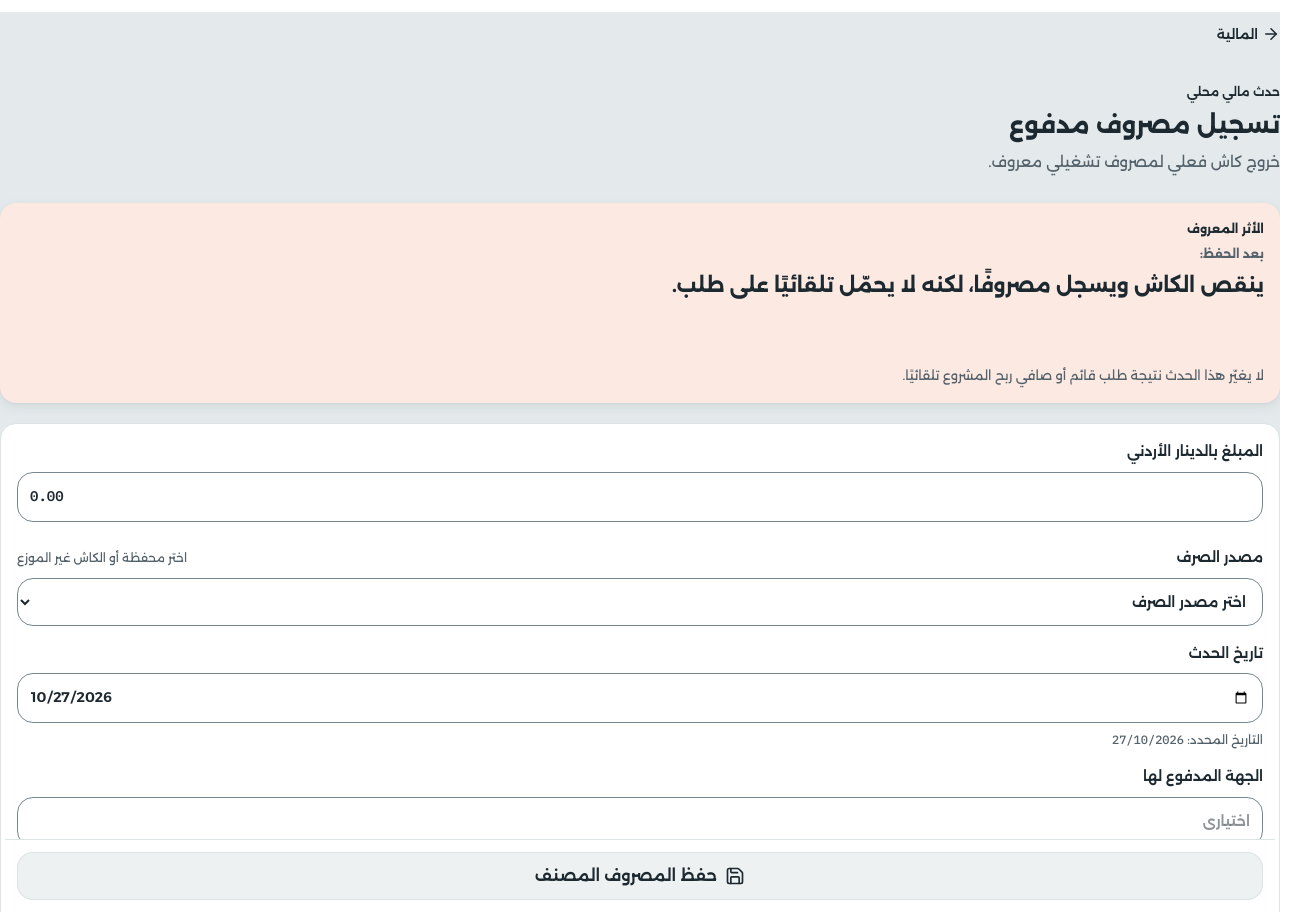
Scenario: FinancialEventEditor guided journey (المجموعة ١) › derives the effect preview from the committed intent — honest negative lines
The image size is (1292, 912).
Type "25" into the field labelled "المبلغ بالدينار الأردني".
click(640, 497); type("25")  # box [17,472,1263,522]
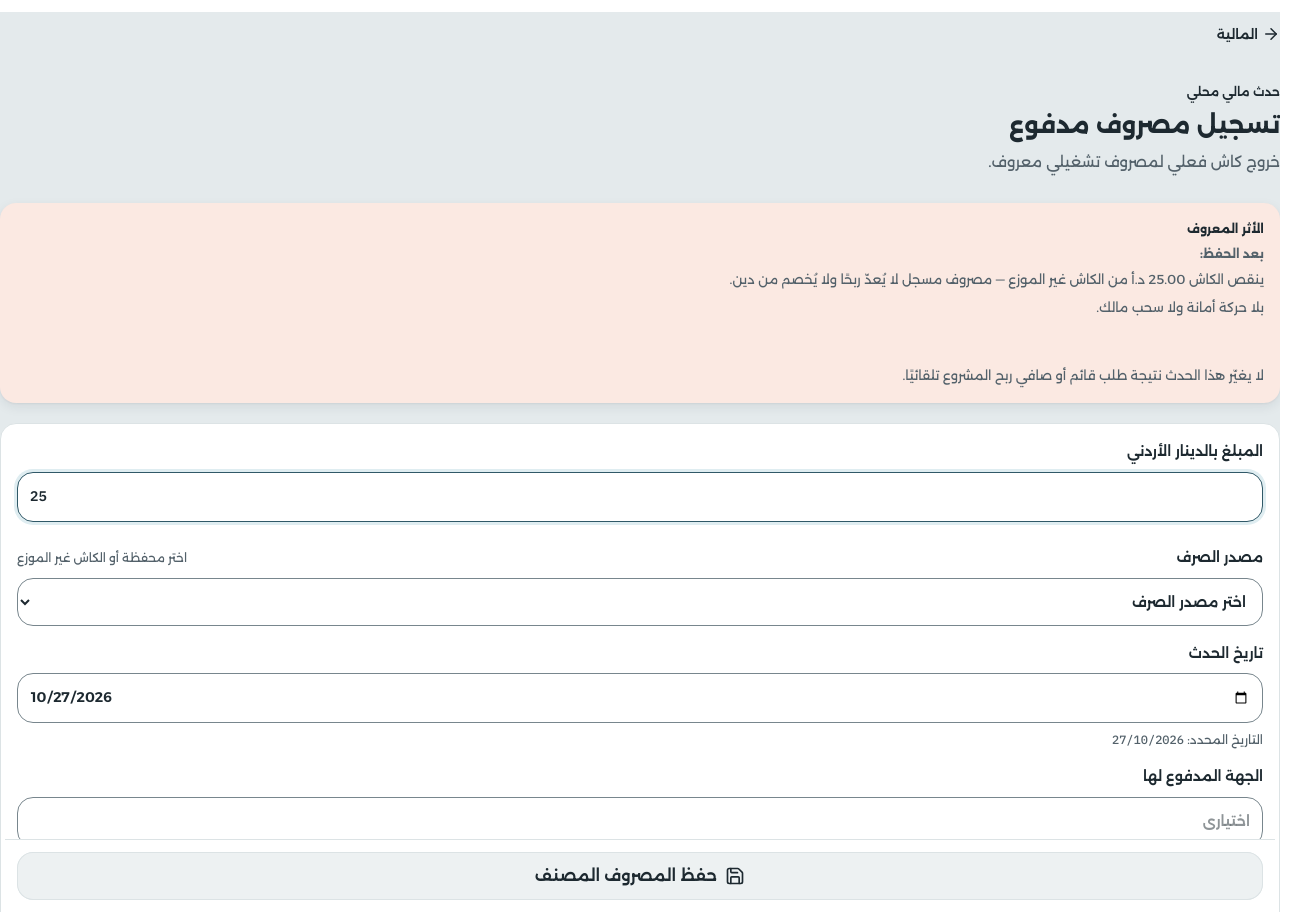
Expected: the text "بعد الحفظ:" is shown, [1200,246,1264,261]
Expected: the text "ينقص الكاش 25.00 د.أ من الكاش غير الموزع" is shown, [730,271,1264,287]
Expected: the text "بلا حركة أمانة ولا سحب مالك." is shown, [1096,299,1264,315]
